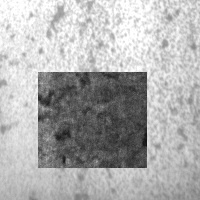crazing: (38, 72, 147, 168)
pitted_surface: (13, 3, 198, 172)
